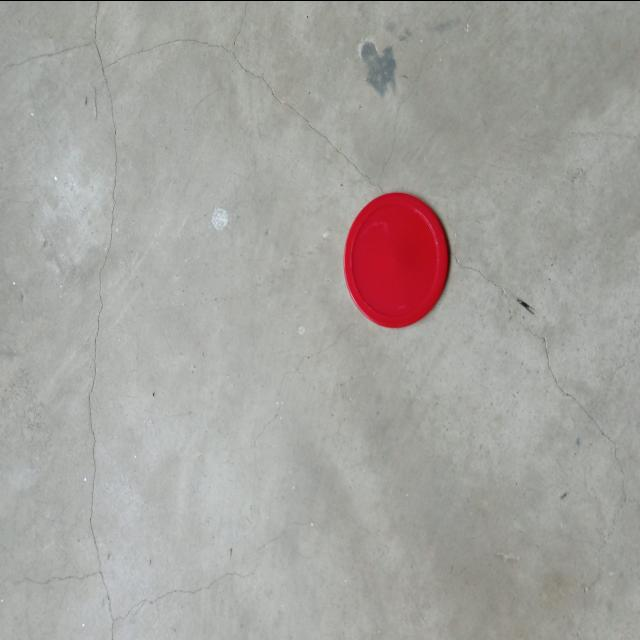chip: (338, 188, 452, 332)
